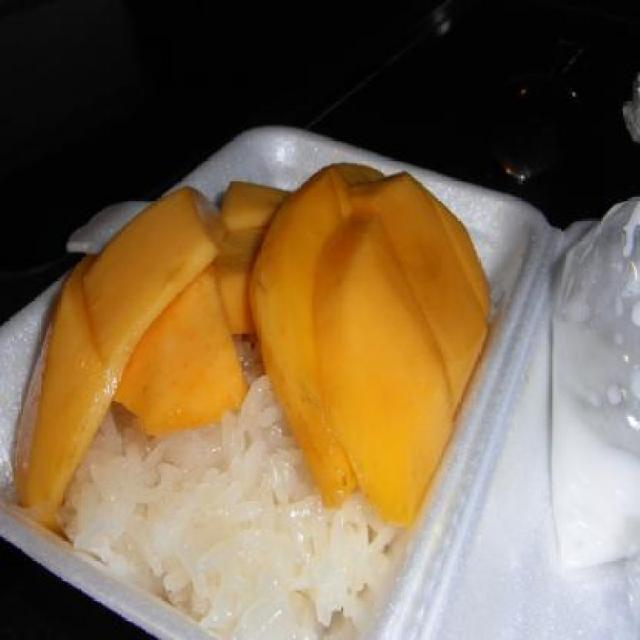Mango: (15, 162, 493, 533), (313, 213, 449, 530)
